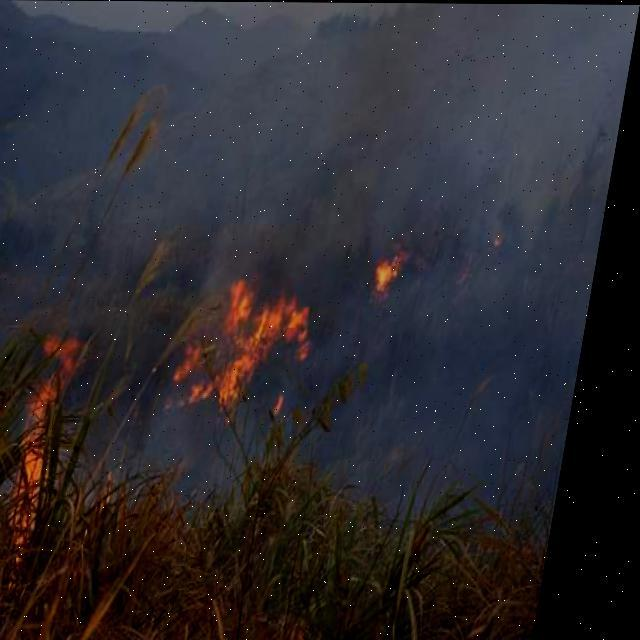Fire: (177, 276, 332, 424), (14, 331, 100, 578), (376, 241, 418, 295)
